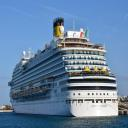cruises: (9, 17, 120, 120)
